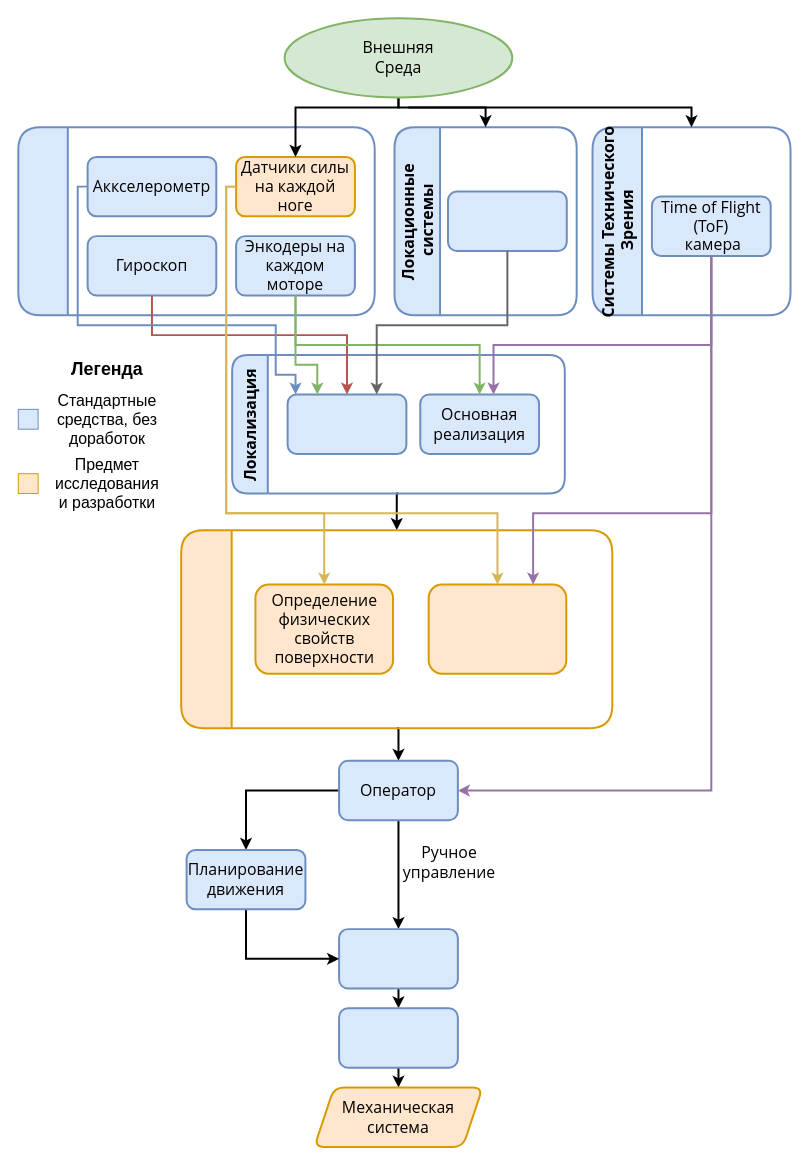
Some shapes in this 808 by 1164 pixel diagram are drawn without their labels. The shapes that lost their labels are listed below. From the top down, each one's box as (x1, y1, x2, y2) in pixels, then its label:
(17, 126, 375, 316): Проприоцептивные сенсоры
(446, 190, 567, 251): Система радио маяков
(286, 393, 407, 454): Запасная реализация
(180, 529, 613, 729): Построение карты местности
(427, 583, 567, 674): Определение геометрических свойств поверхности
(338, 928, 458, 989): Блок управления движением
(338, 1007, 458, 1068): Приводы
